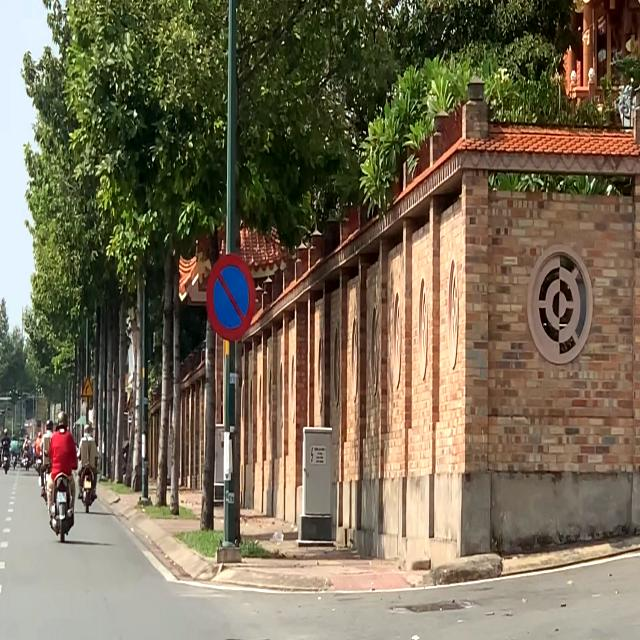P.131a: (203, 241, 258, 352)
W.201b: (80, 379, 94, 401)
